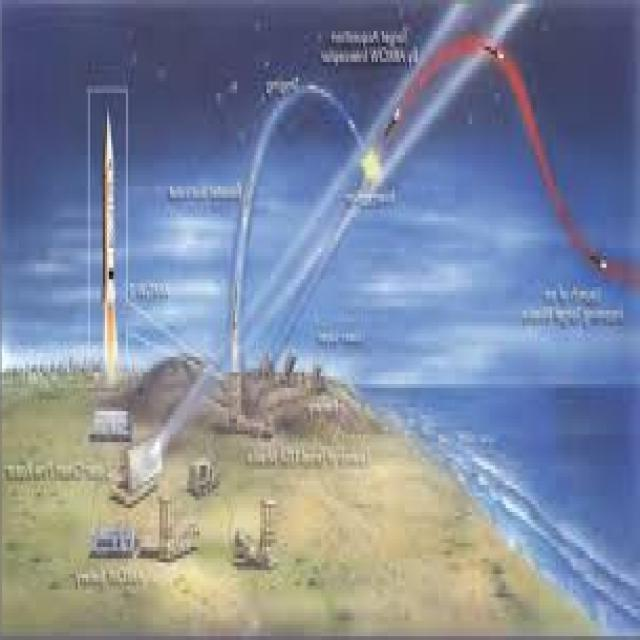Missile: (98, 110, 119, 325)
